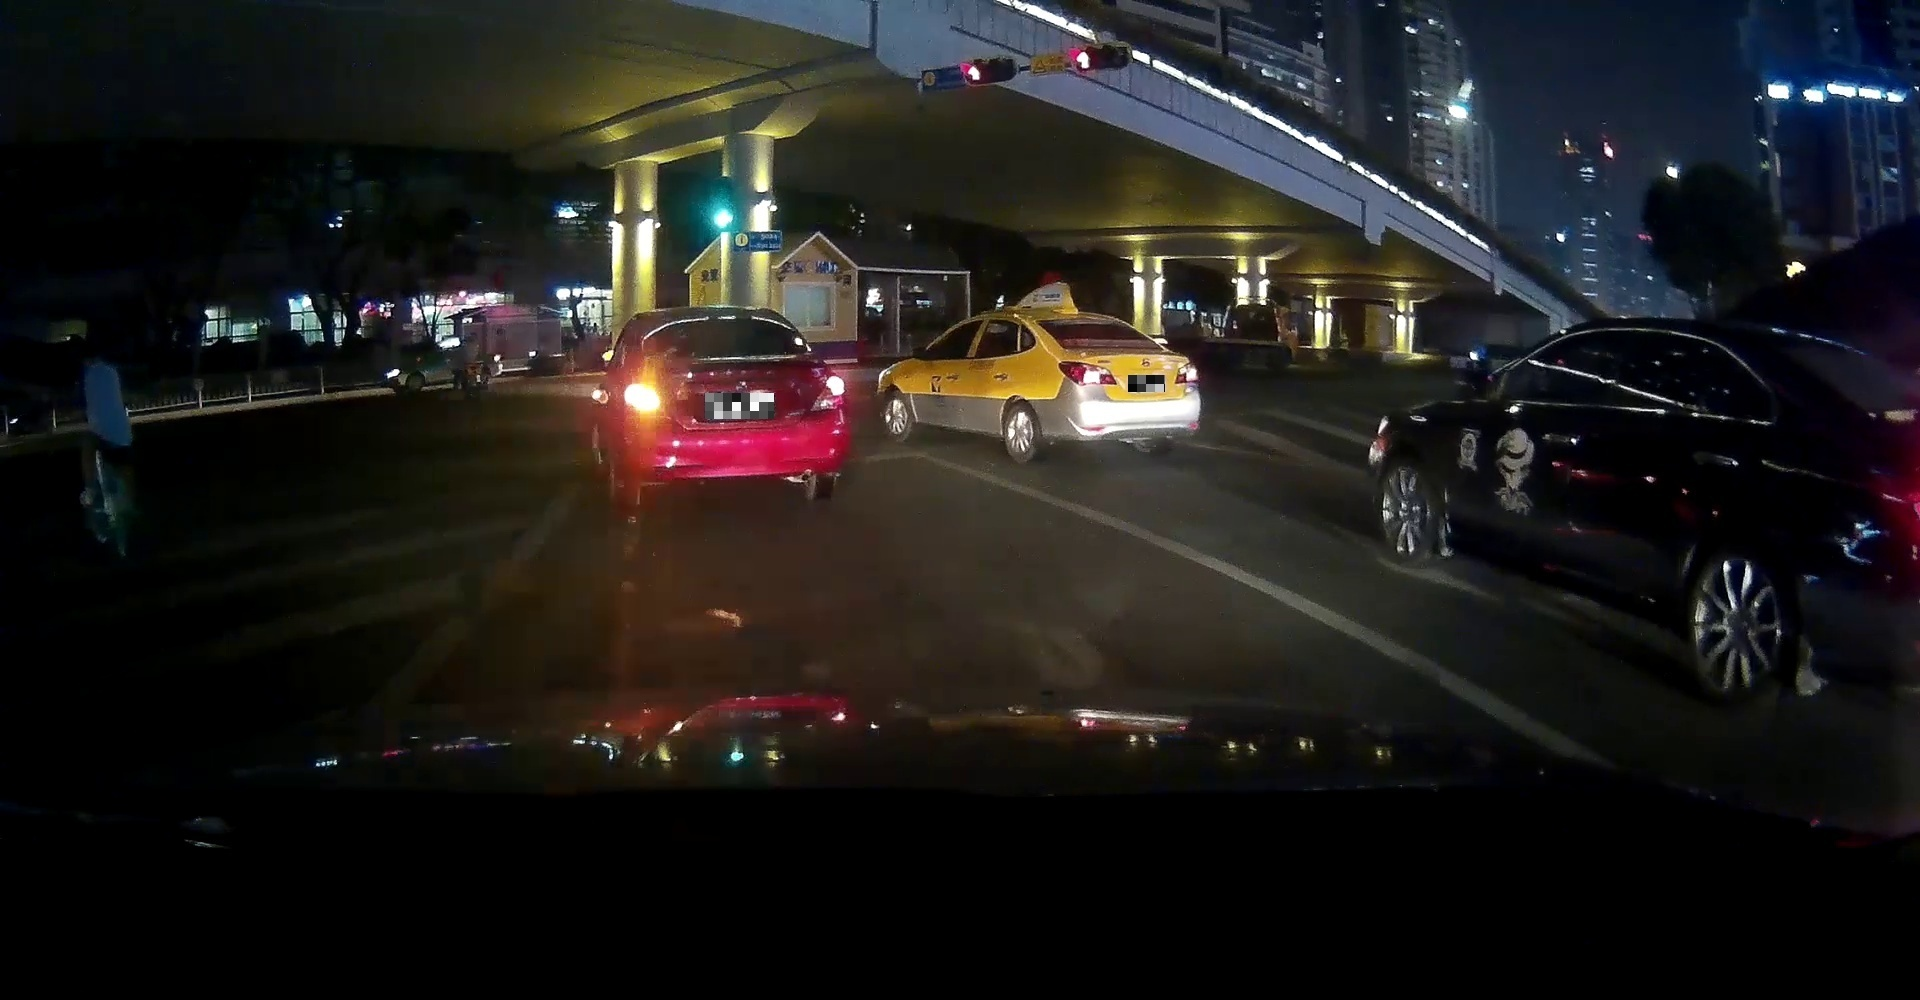L_light: (623, 372, 669, 421), (1058, 359, 1117, 388)
R_light: (808, 369, 846, 412), (1173, 362, 1200, 385)
T_light: (705, 313, 743, 324), (1065, 315, 1095, 321)
night-left: (607, 308, 850, 501)
night-no: (1022, 311, 1201, 459)
plate_1: (705, 393, 775, 419)
plate_2: (1128, 376, 1164, 392)
